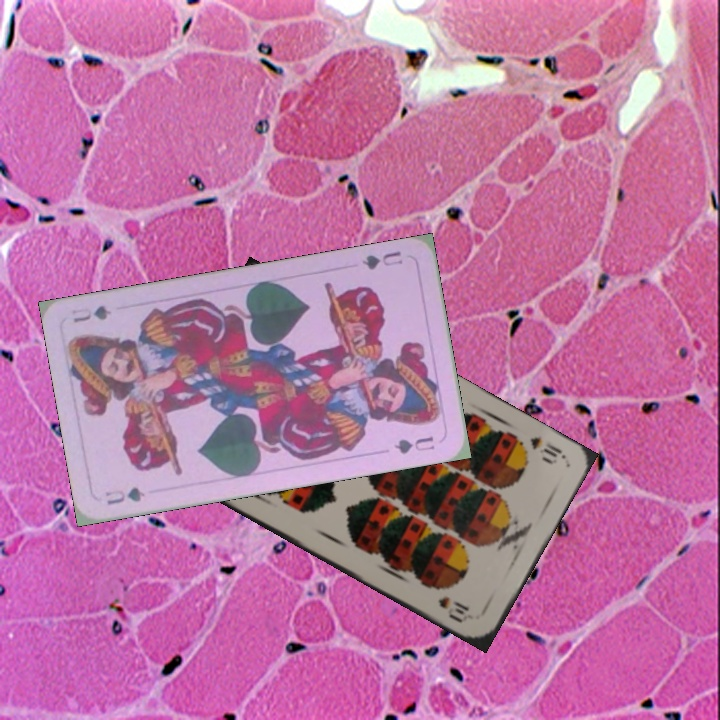GU: (358, 247, 406, 273), (101, 483, 148, 508)
S10: (525, 433, 567, 467)
